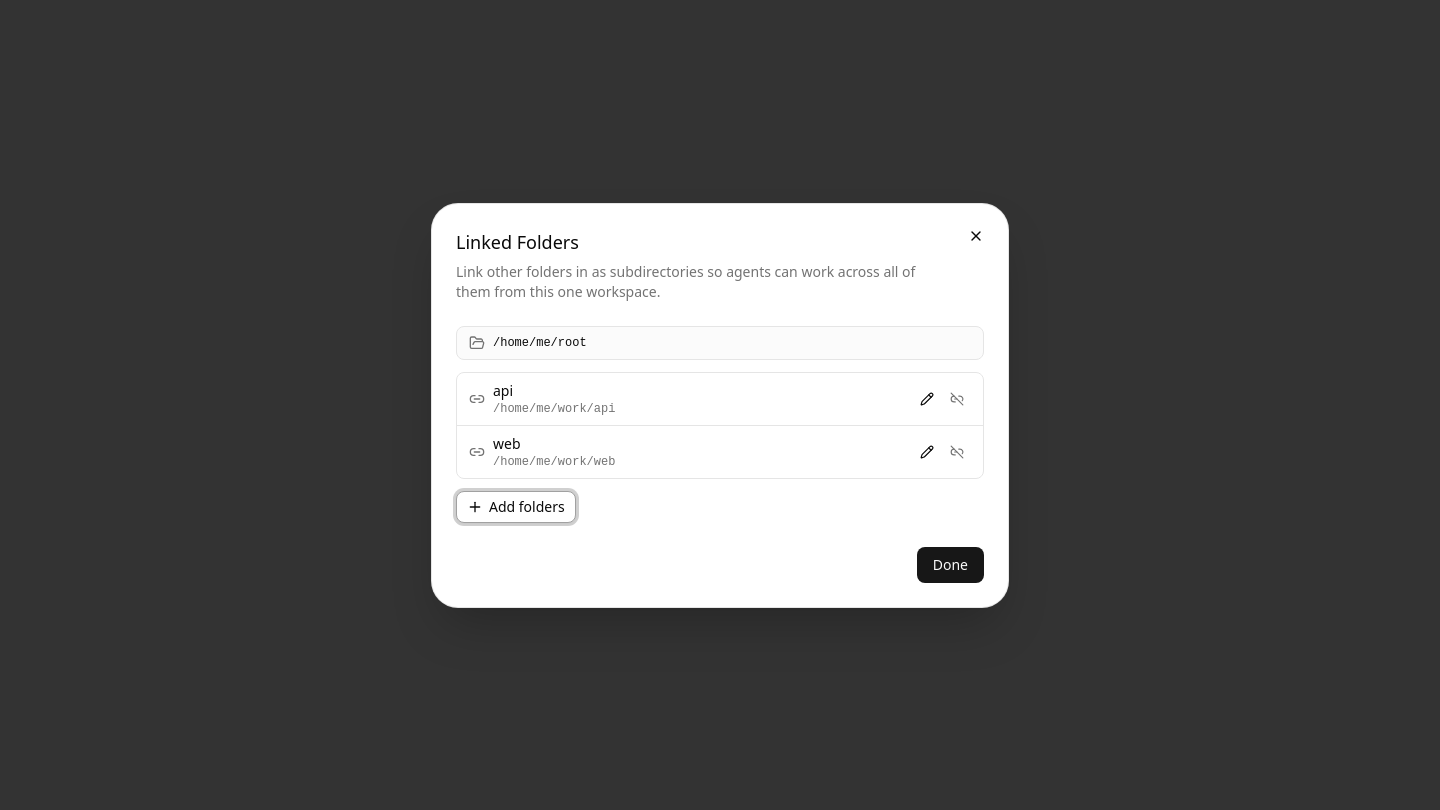
WorkspaceFolderDialog — manage mode › blocks a rename that duplicates another link's name
The width and height of the screenshot is (1440, 810).
Check: the text "api" is shown, box [493,380,513,400]
Click the button named "Rename" in the row of "/home/me/work/api" at x=927, y=398, box [913,384,941,412]
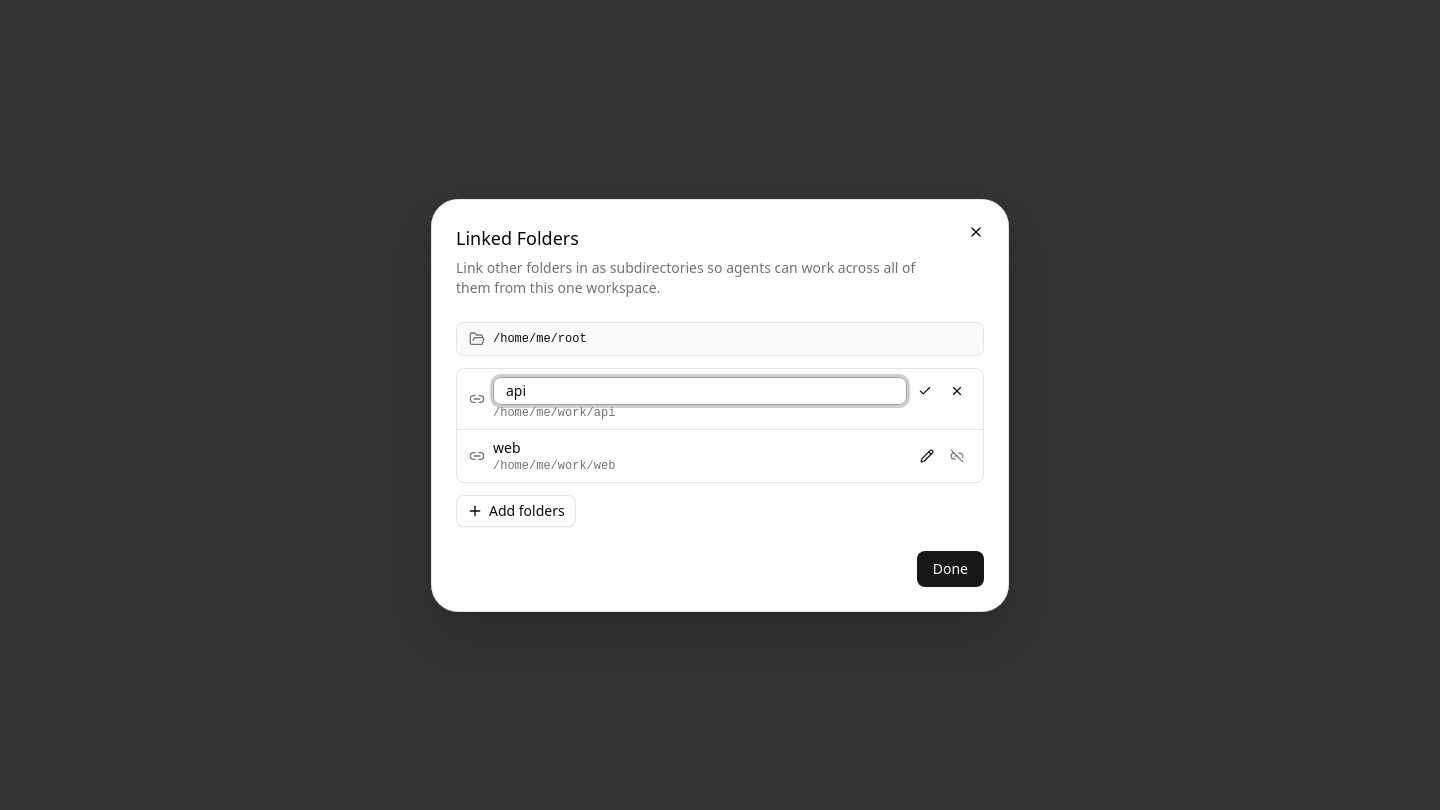
// Case-insensitive: `WEB` and `web` are the same entry on macOS/Windows.
Replace the text in the field showing "api" with "WEB" at x=700, y=390, box [493,376,907,404]
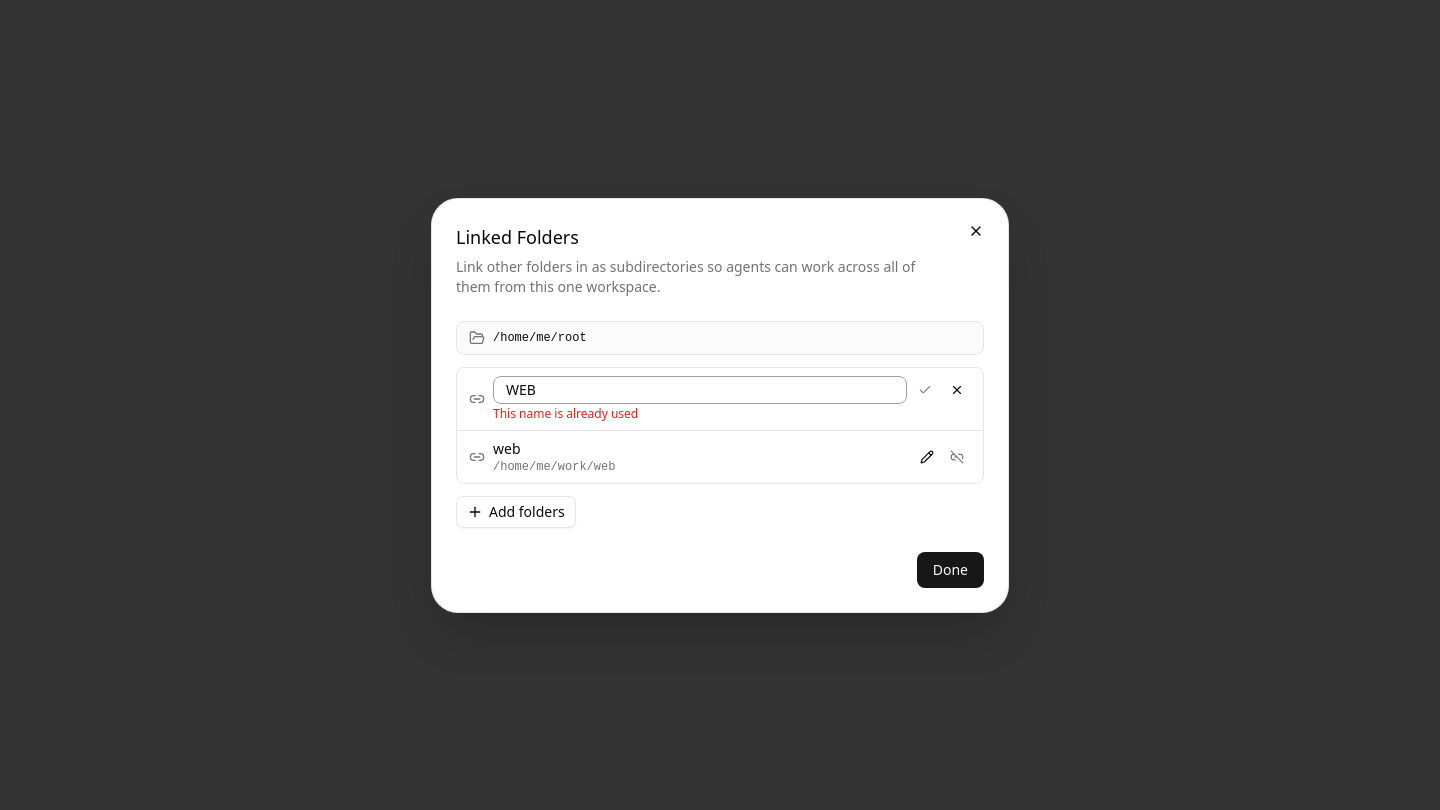
Check: the text "This name is already used" is shown, box [493,404,638,422]
Check: the button named "Save" is disabled, box [911,376,939,404]
